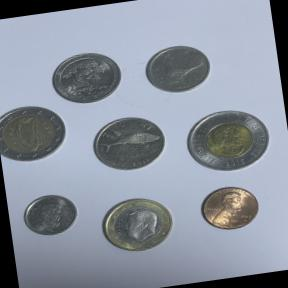coin: (173, 95, 280, 184), (91, 187, 186, 262), (84, 106, 174, 182), (46, 45, 128, 110), (0, 98, 71, 168), (190, 177, 268, 239), (15, 186, 84, 243)
